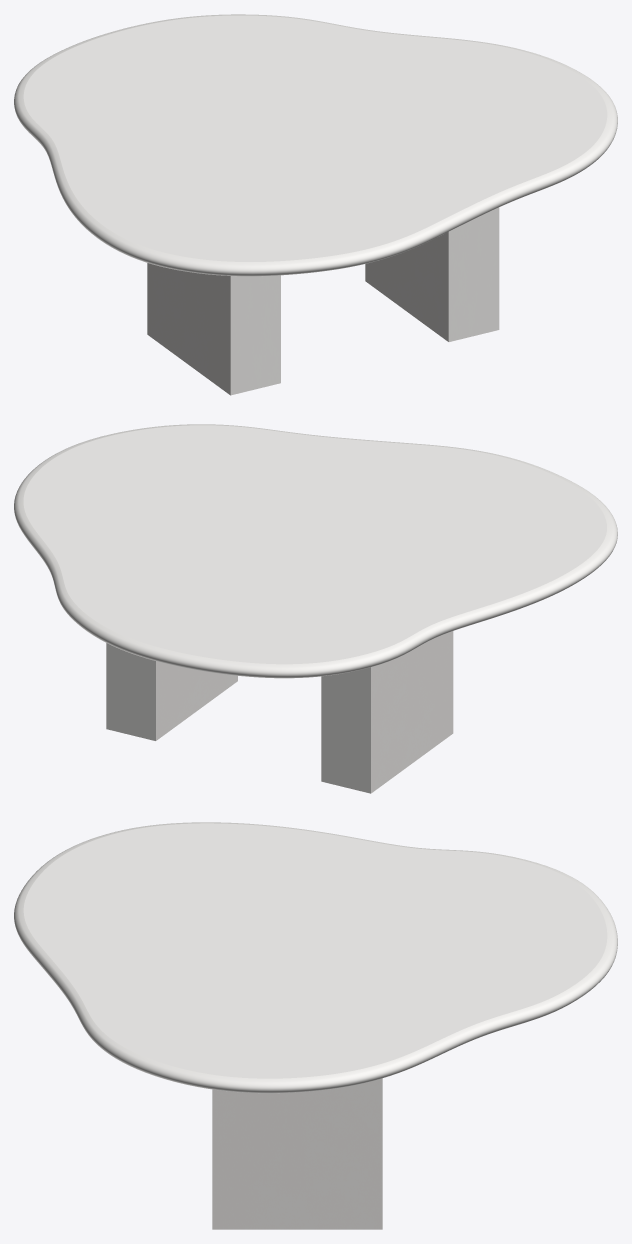
File: purewhite_topone_round_ridge.glb
3 renders of one model, top to bottom at view 1: azimuth 30°, elevation 25°; view 2: azimuth 150°, elevation 25°; view 3: azimuth 270°, elevation 25°, orthographic. The views are drawn at different scales.
Visible parts, largest first — view 1: round_topone, ridge; view 2: round_topone, ridge; view 3: round_topone, ridge.
Part boxes in pixels (left/top/right/bottom): round_topone: left=14, top=14, right=617, bottom=276; ridge: left=147, top=207, right=499, bottom=395; round_topone: left=14, top=424, right=617, bottom=678; ridge: left=106, top=631, right=453, bottom=793; round_topone: left=14, top=822, right=617, bottom=1093; ridge: left=212, top=1078, right=382, bottom=1229.
Size of the model in its own units: 6.83 by 2.5 by 6.6.
1 material, 1 textured.
